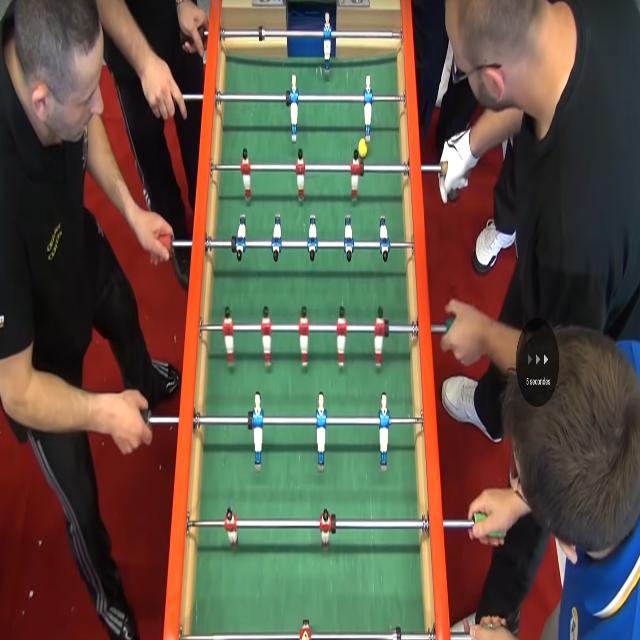ball: (352, 138, 372, 156)
